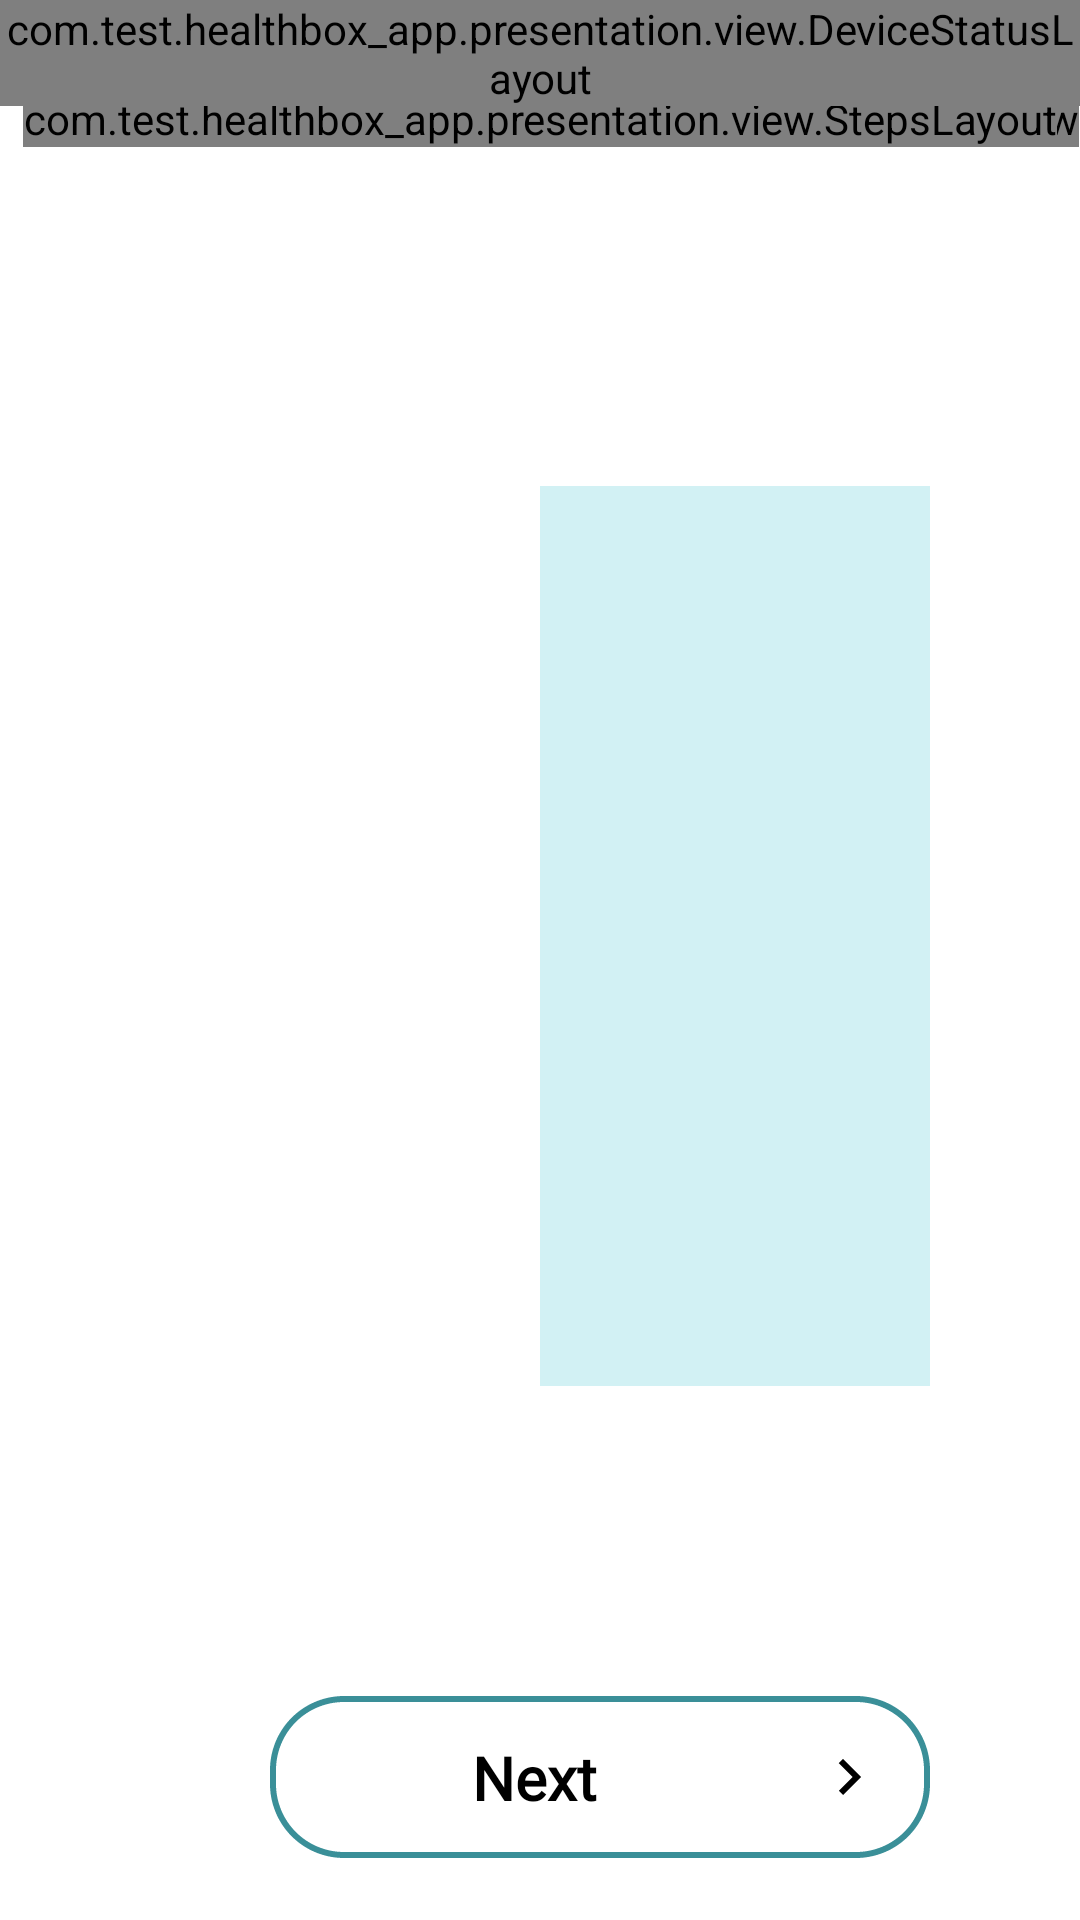

Point at icon controls on the screen. Image size 1080 x 1920, points as point (x, y).
arrow: point (850, 1777)
